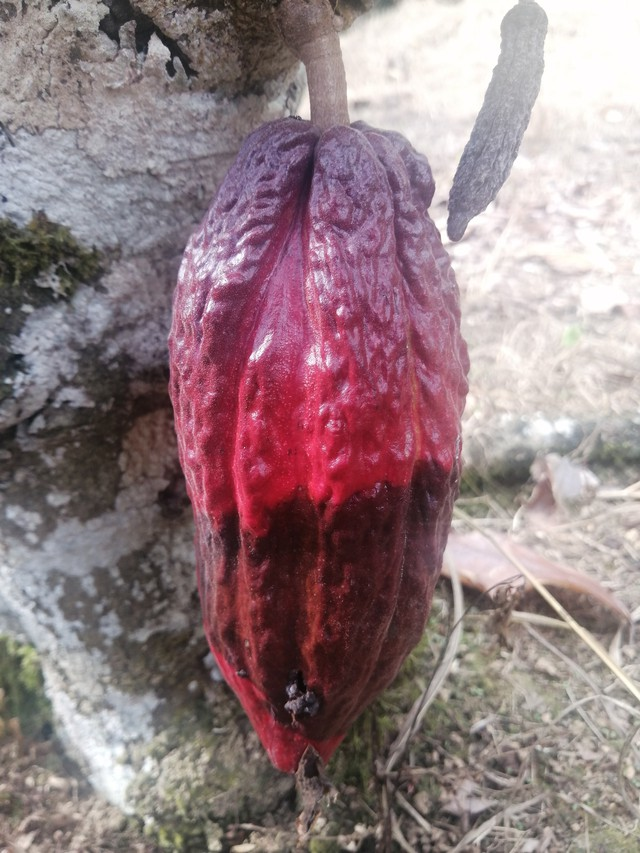carmenta foraseminis: (165, 113, 473, 780)
